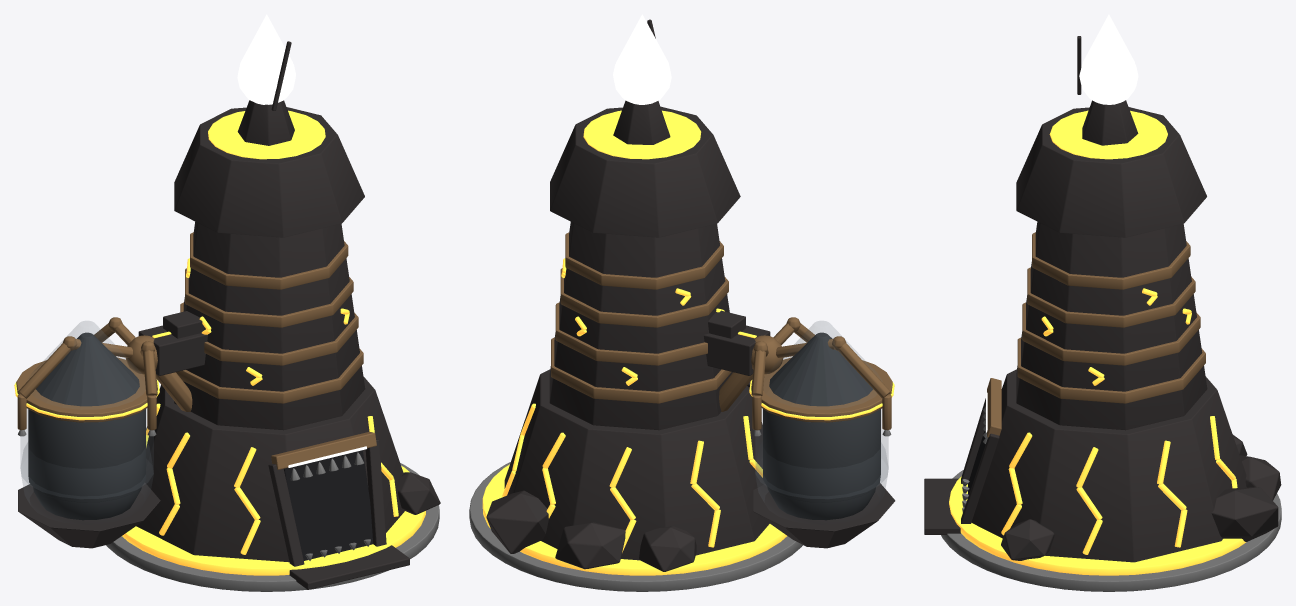
File: EMBER_Vat_T1.glb
3 renders of one model, left to right at view 1: azimuth 30°, elevation 25°; view 2: azimuth 150°, elevation 25°; view 3: azimuth 270°, elevation 25°, orthographic.
Visible parts, largest first — view 1: EMBER_Vat_T1; view 2: EMBER_Vat_T1; view 3: EMBER_Vat_T1.
Part boxes in pixels (x1=…): EMBER_Vat_T1: x1=14, y1=14, x2=440, y2=591; EMBER_Vat_T1: x1=469, y1=14, x2=895, y2=591; EMBER_Vat_T1: x1=924, y1=14, x2=1281, y2=591.
Size of the model in its own units: 4.66 by 5.67 by 3.62.
